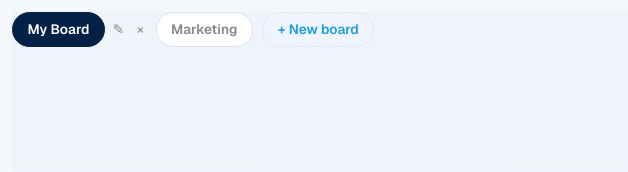
it: BoardSwitcher › cancels creating a new board
Click the button "+ New board" at point(318, 30), box [262, 12, 374, 47]
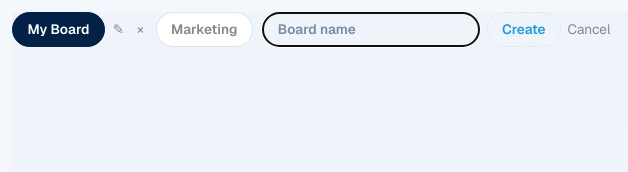
Click the button "Cancel" at point(589, 30), box [567, 19, 611, 40]
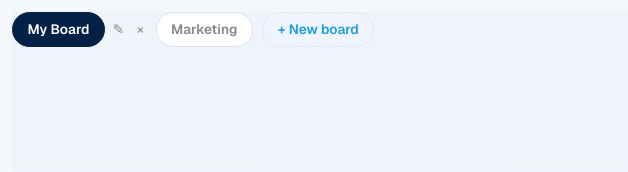
Check: the button "+ New board" is shown, box [262, 12, 374, 47]
